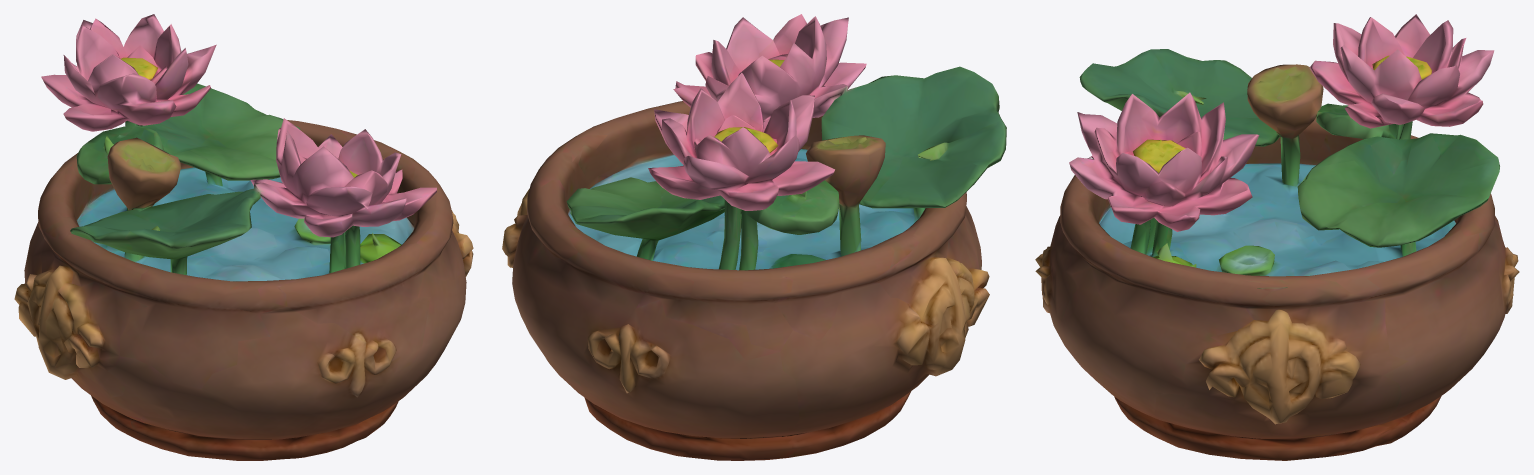
File: lotus.glb
3 renders of one model, left to right at view 1: azimuth 30°, elevation 25°; view 2: azimuth 150°, elevation 25°; view 3: azimuth 270°, elevation 25°, orthographic. The views are drawn at different scales.
Parts seen in each view (by area): view 1: tripo_node_4554add3-3726-493e-b26e-8d4aa6823a6e; view 2: tripo_node_4554add3-3726-493e-b26e-8d4aa6823a6e; view 3: tripo_node_4554add3-3726-493e-b26e-8d4aa6823a6e.
Boxes of the visible parts, <box> form: tripo_node_4554add3-3726-493e-b26e-8d4aa6823a6e: <box>14,14,473,460</box>; tripo_node_4554add3-3726-493e-b26e-8d4aa6823a6e: <box>502,14,1006,460</box>; tripo_node_4554add3-3726-493e-b26e-8d4aa6823a6e: <box>1035,14,1519,460</box>.
Size of the model in its own units: 0.3846 by 0.3 by 0.3869.
1 material, 1 textured.
